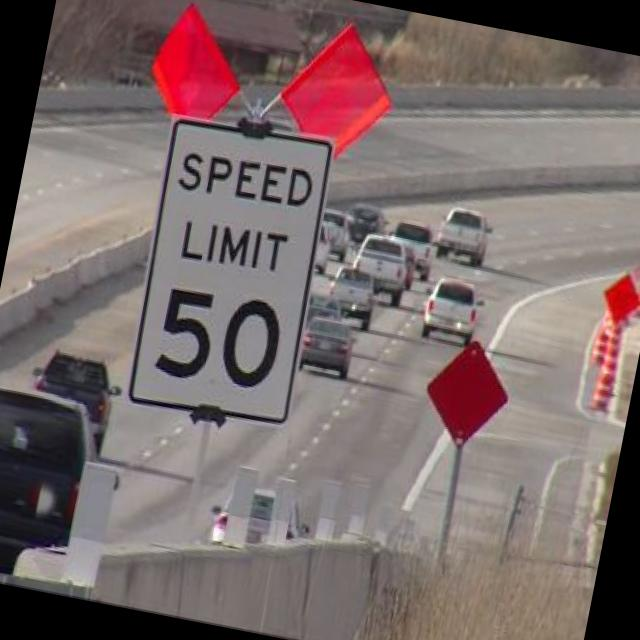50 MPH: (119, 111, 342, 432)
